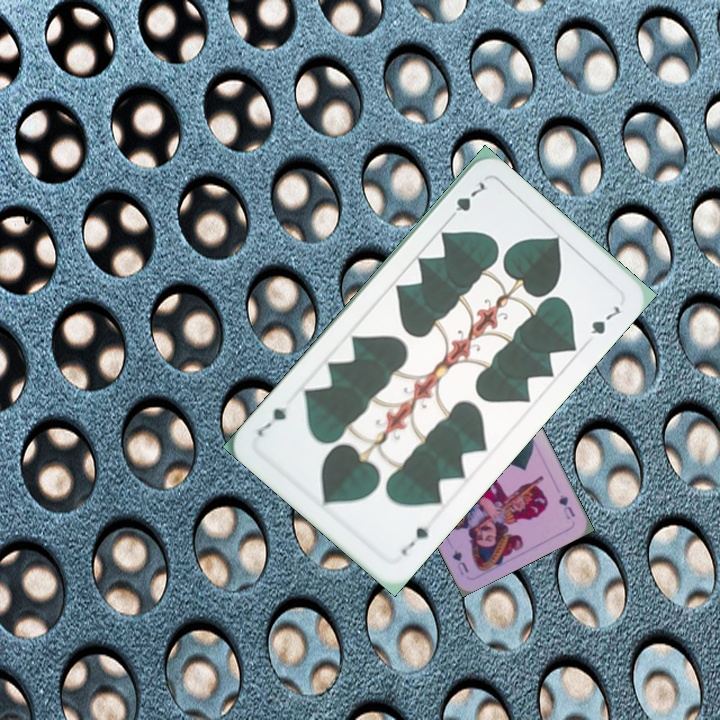G7: (442, 177, 488, 225), (397, 518, 436, 558)
GU: (554, 490, 578, 522)
